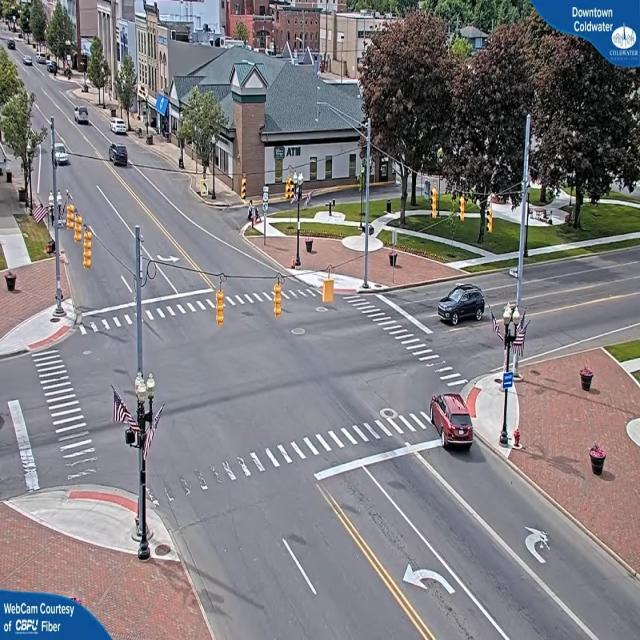car: (431, 391, 474, 451), (437, 282, 487, 326), (110, 146, 130, 168), (53, 140, 69, 166), (112, 120, 130, 138), (76, 108, 92, 126)
